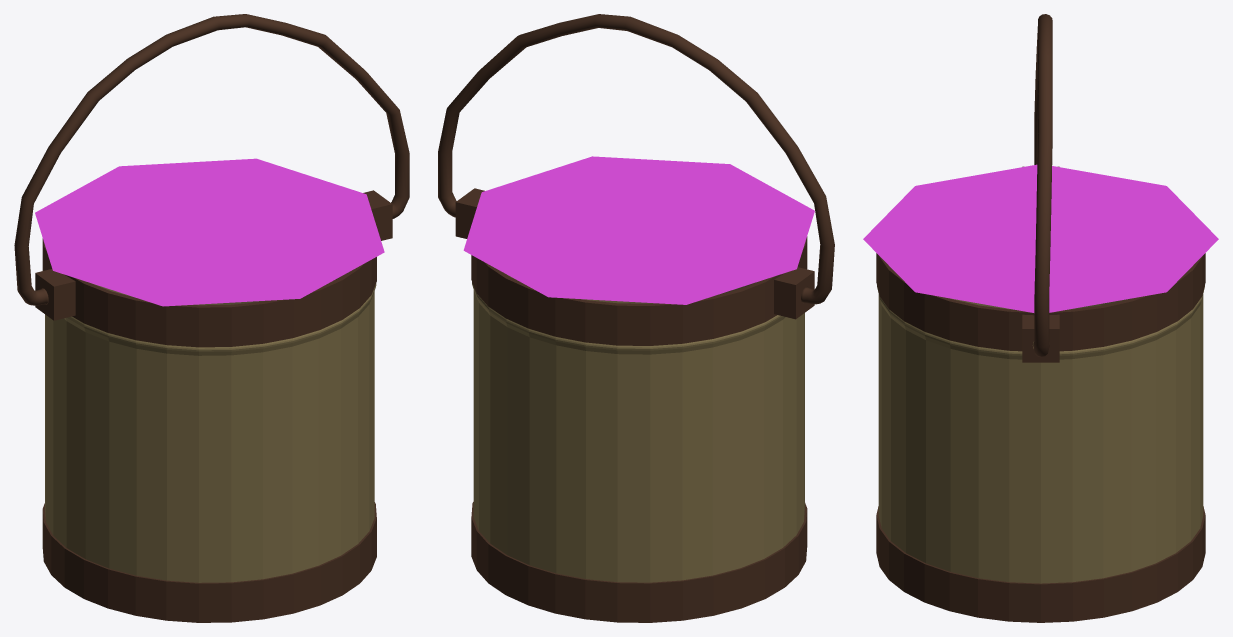
Rendered from Cup.fbx.
3 views of the same model, side by side, from view 1: azimuth 30°, elevation 25°; view 2: azimuth 150°, elevation 25°; view 3: azimuth 270°, elevation 25° (orthographic). The views are drawn at different scales.
Parts seen in each view (by area): view 1: Cup, CupSpout, Handle; view 2: Cup, CupSpout, Handle; view 3: Cup, CupSpout, Handle.
Boxes of the visible parts, x1,y1,x2,y2 form: Cup: (35,190,392,622); CupSpout: (35,158,384,306); Handle: (14,14,409,305); Cup: (455,188,814,622); CupSpout: (463,156,814,304); Handle: (438,14,834,304); Cup: (876,166,1205,622); CupSpout: (863,164,1218,312); Handle: (1033,14,1052,357).
Size of what is drawn, in the model's own units: 30.07 by 38.88 by 24.
